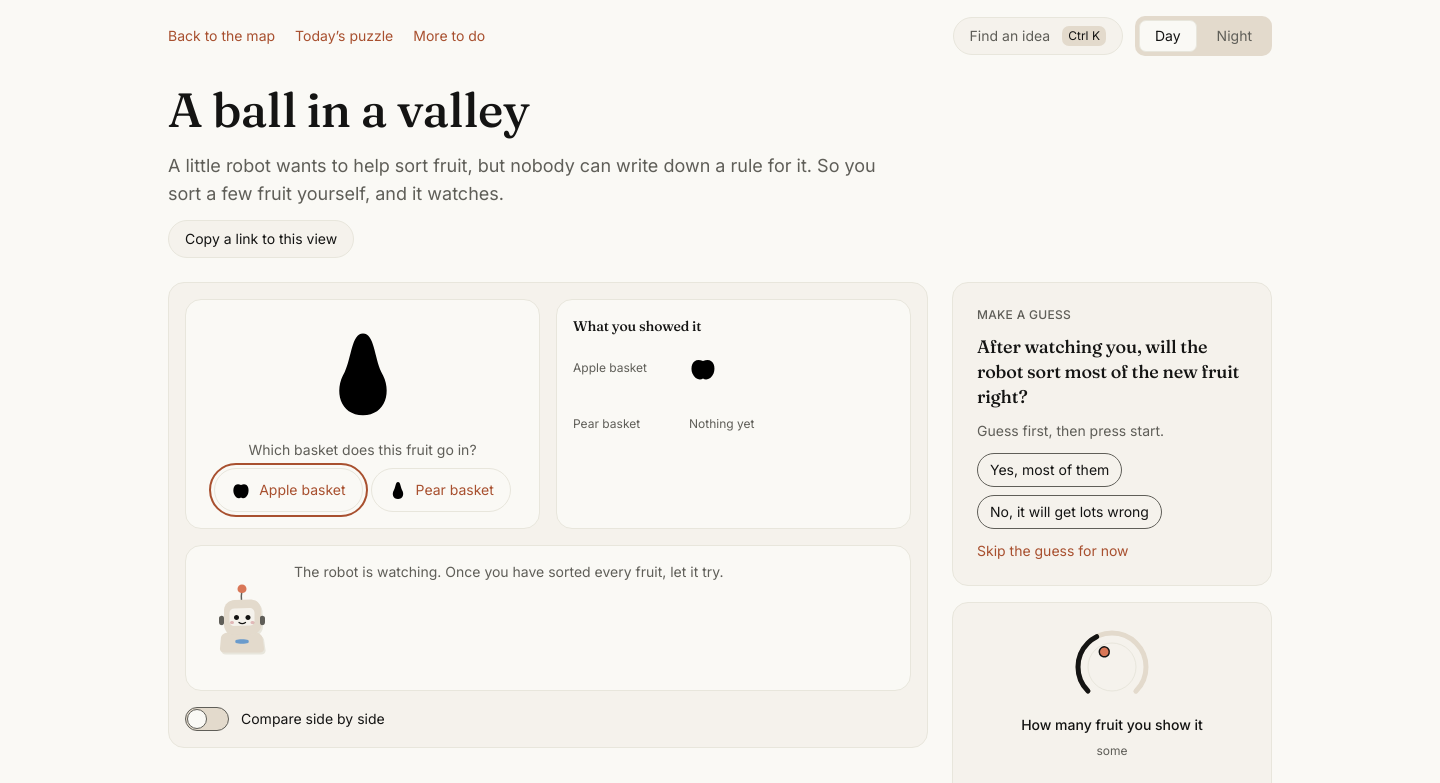
it: teach by showing: in the lesson › waits for every fruit to be sorted before the robot can try
Earlier steps of the test are not shown.
Click the button "Pear basket". click: x=441, y=490
box: [370,468,511,512]
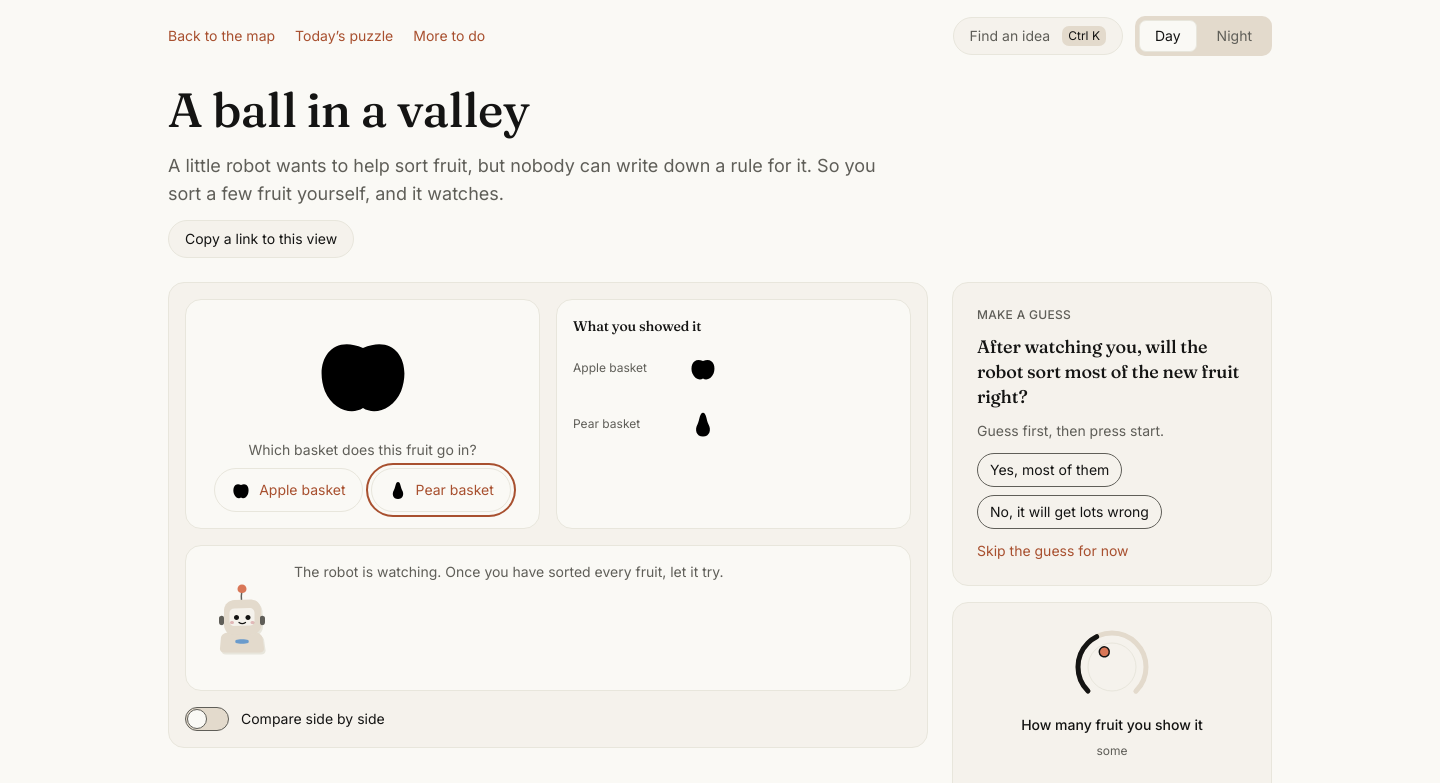
Click the button "Apple basket". click: x=288, y=490
box: [214,468,363,512]
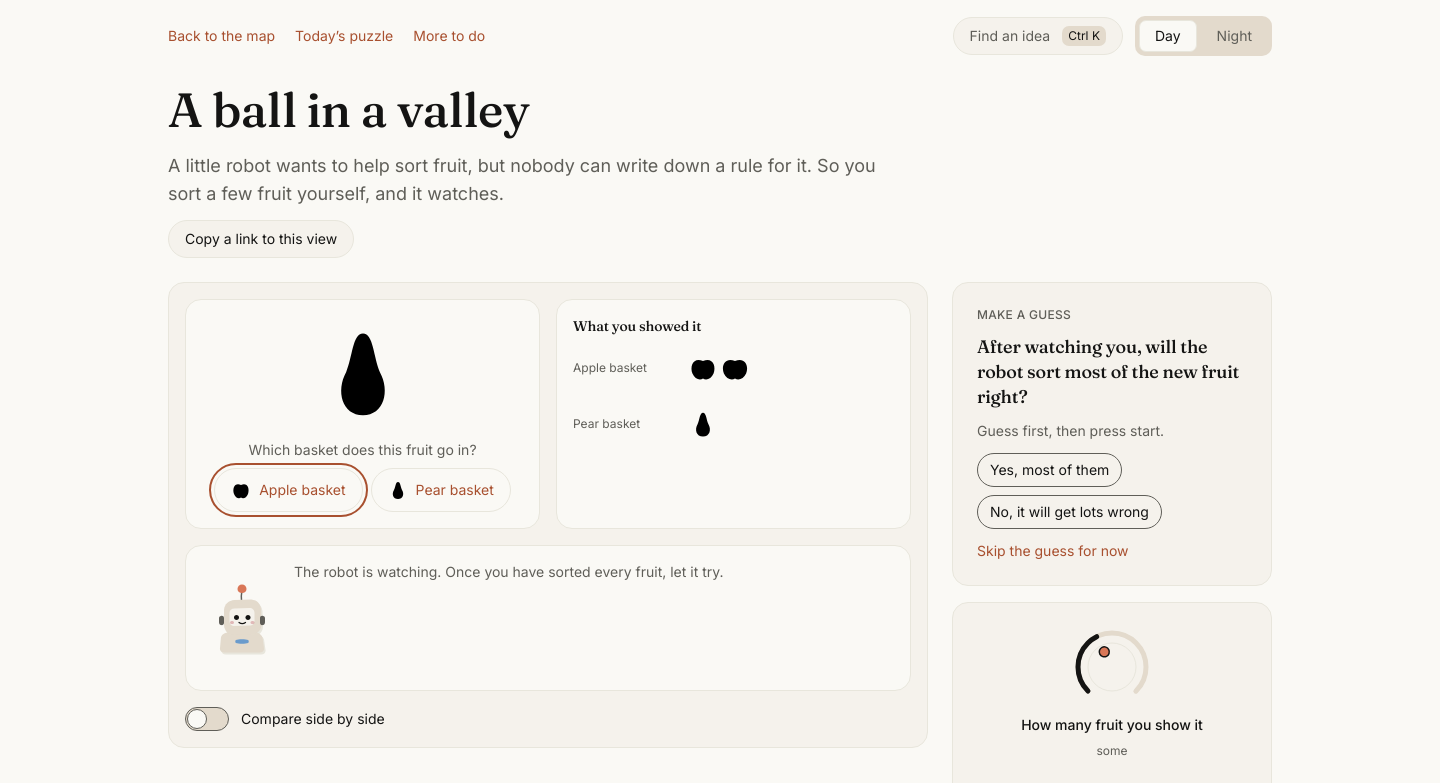
Click the button "Pear basket". click: x=441, y=490
box: [370,468,511,512]
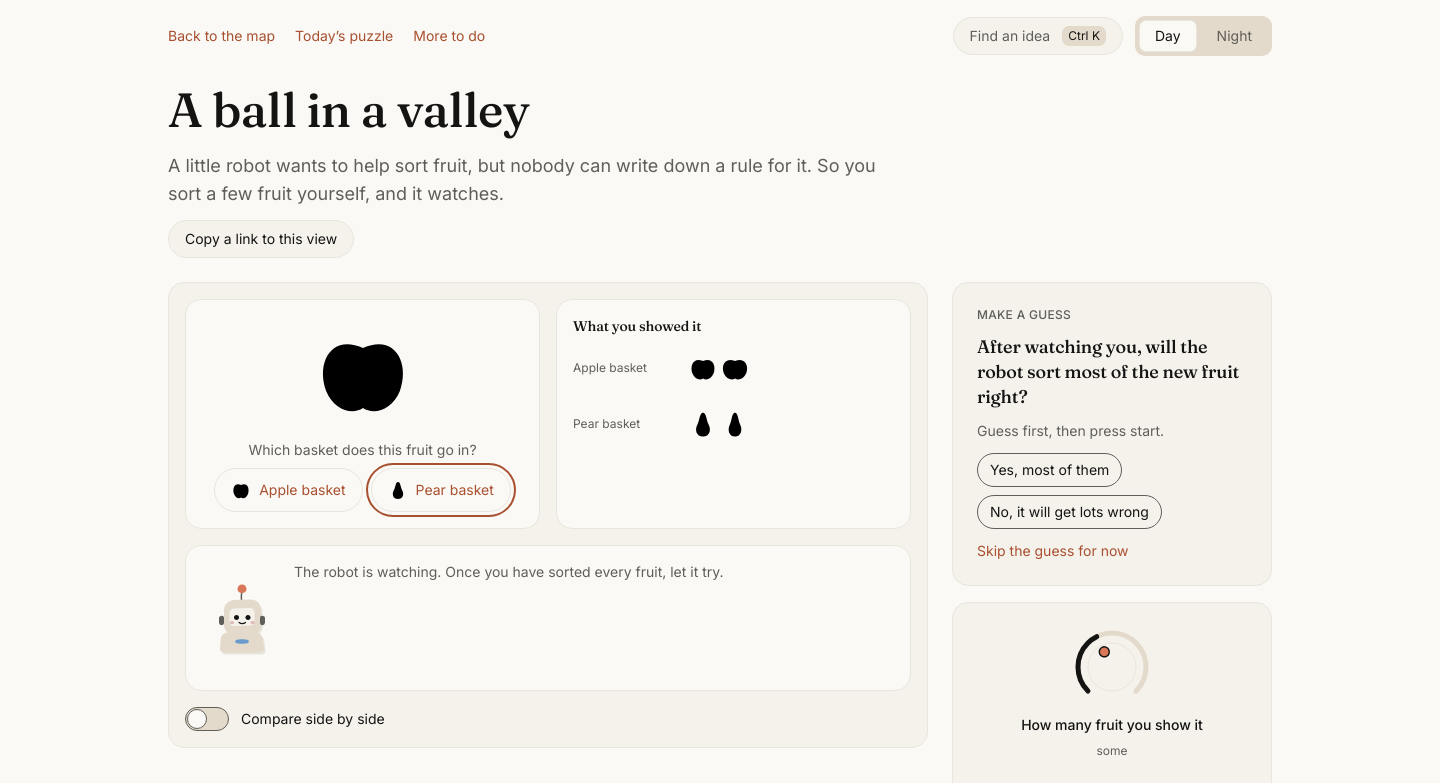
Click the button "Apple basket". click: x=288, y=490
box: [214,468,363,512]
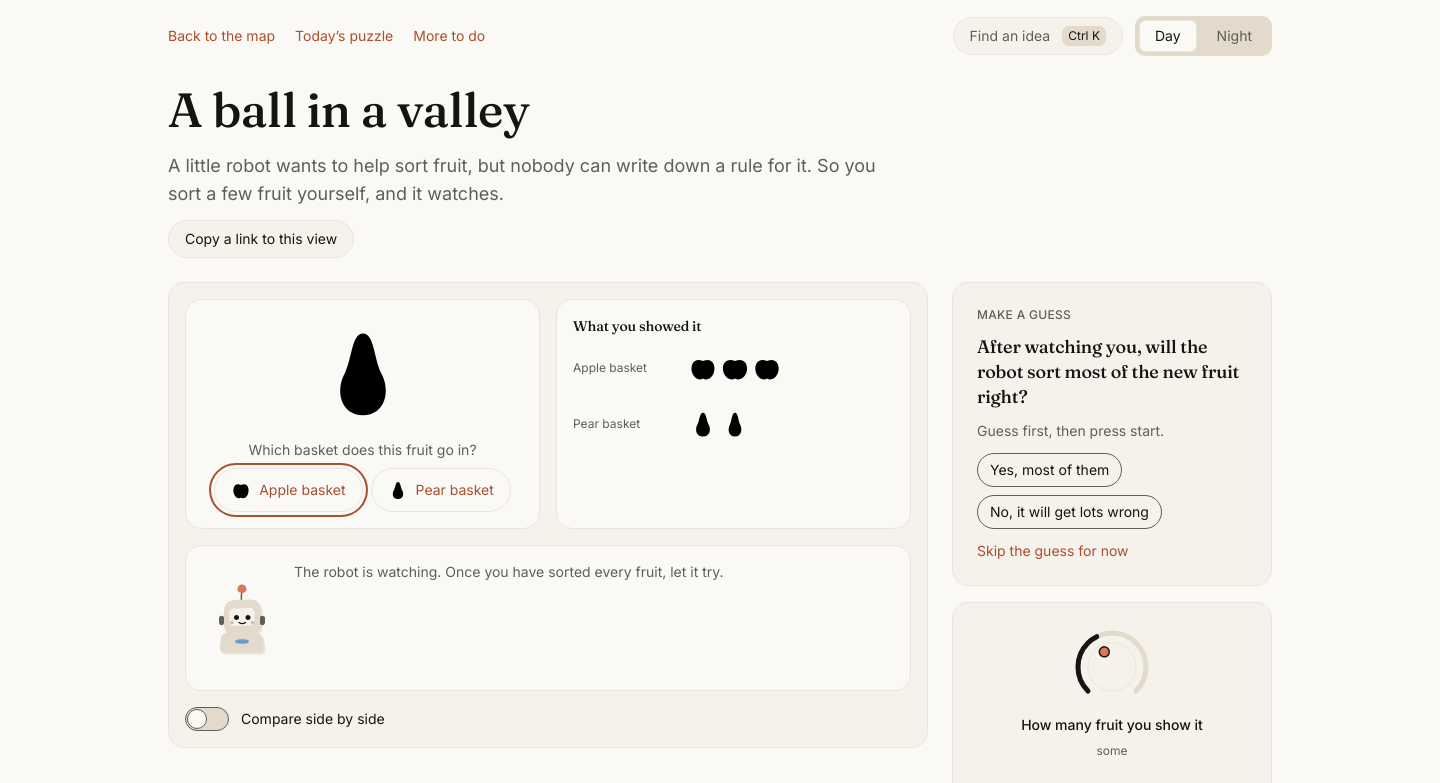
Click the button "Pear basket". click: x=441, y=490
box: [370,468,511,512]
(page scrolled)
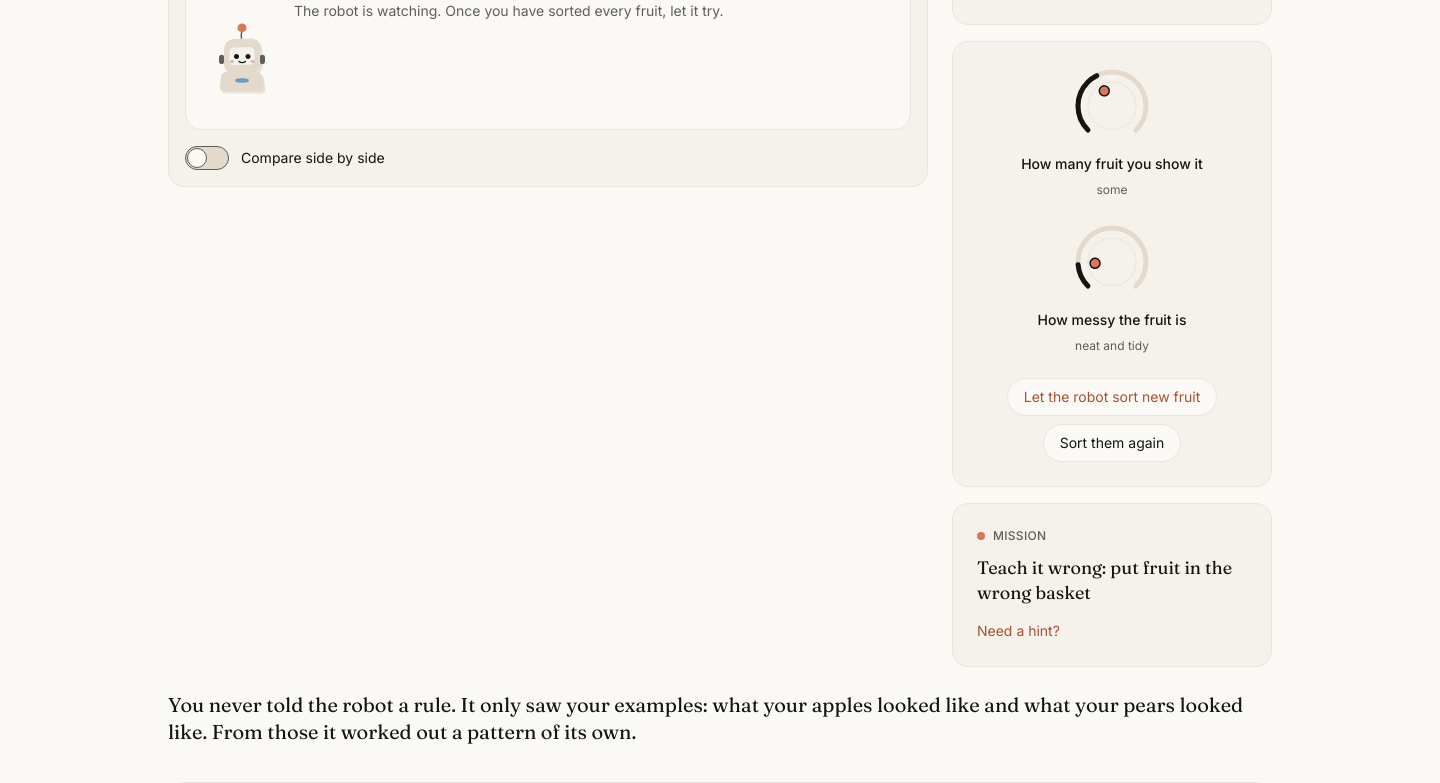
Click the button "Let the robot sort new fruit". click: x=1112, y=397
box: [1007,378,1217,416]
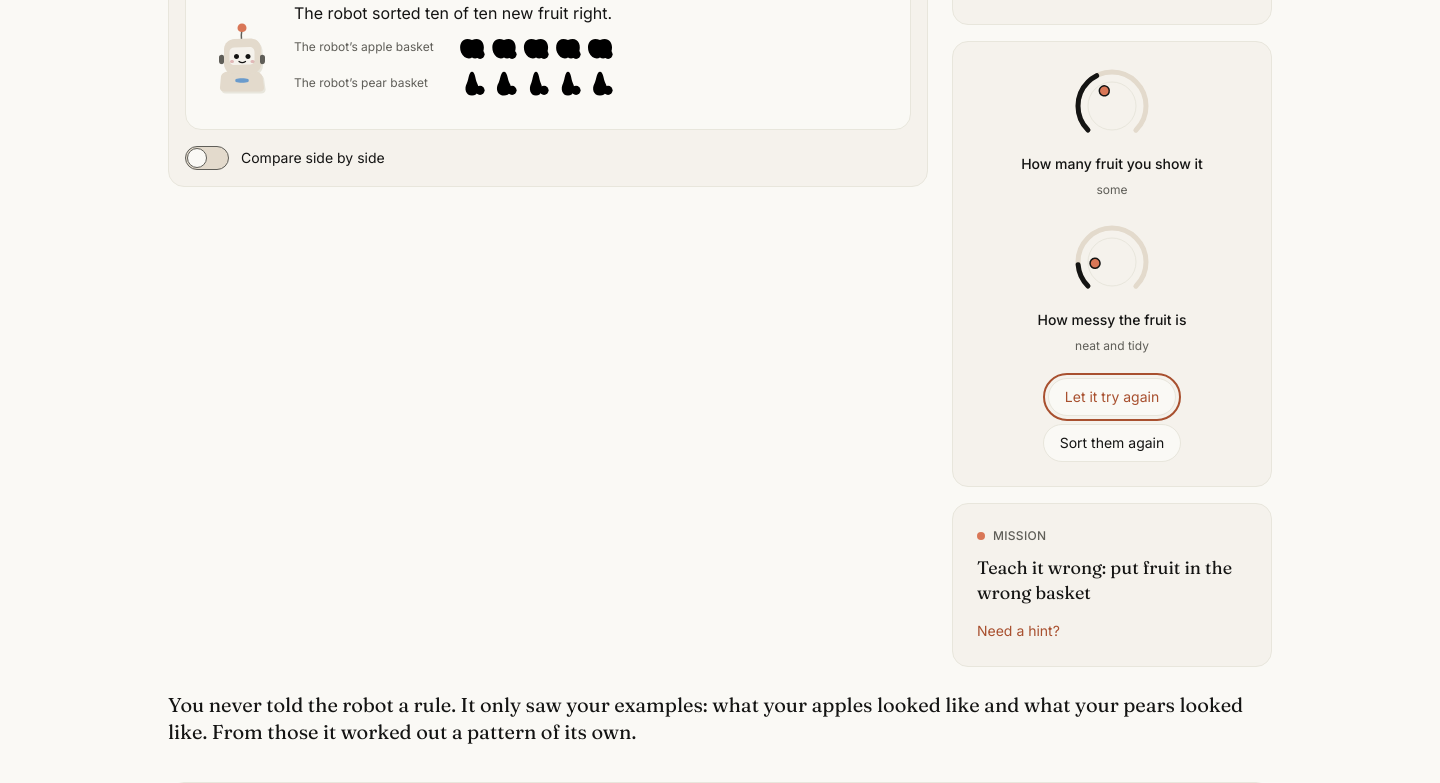
Check: the text "The robot sorted ten of ten new fruit right." is shown, box [294,3,612,23]
